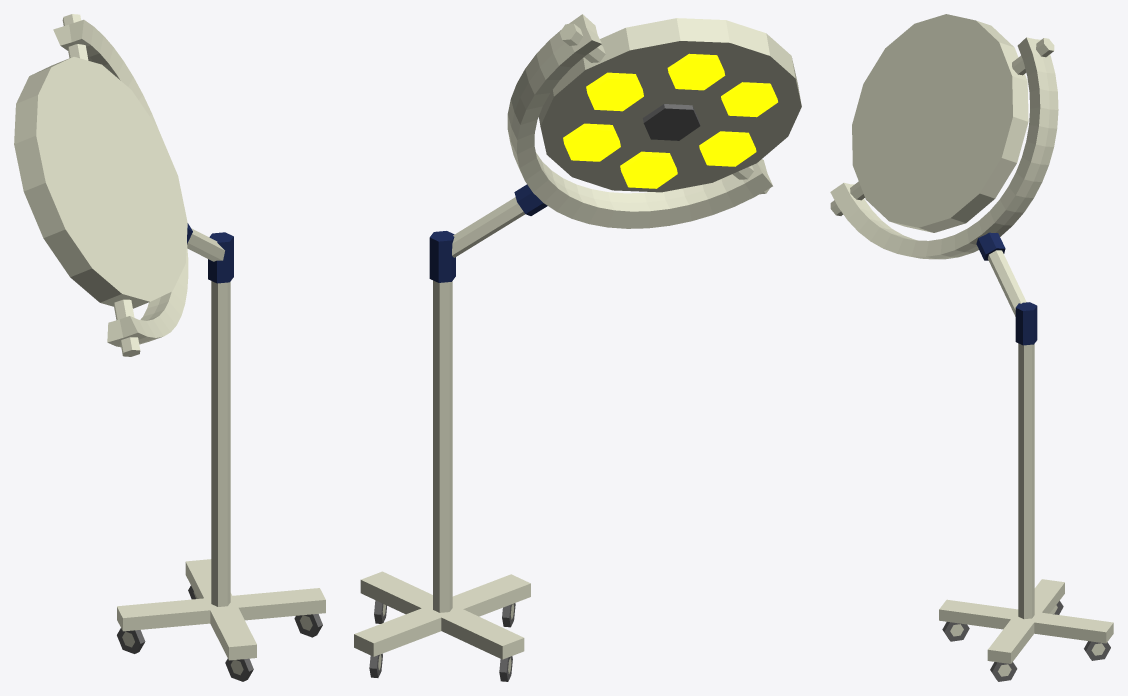
File: light-right-hospital.fbx
3 views of the same model, side by side, from view 1: azimuth 30°, elevation 25°; view 2: azimuth 150°, elevation 25°; view 3: azimuth 270°, elevation 25° (orthographic). The views are drawn at different scales.
Visible parts, largest first — view 1: light-right-hospital; view 2: light-right-hospital; view 3: light-right-hospital.
Boxes of the visible parts, x1,y1,x2,y2 form: light-right-hospital: [14, 14, 325, 681]; light-right-hospital: [354, 14, 801, 681]; light-right-hospital: [830, 14, 1113, 681].
Size of the model in its own units: 249 by 431 by 200.
